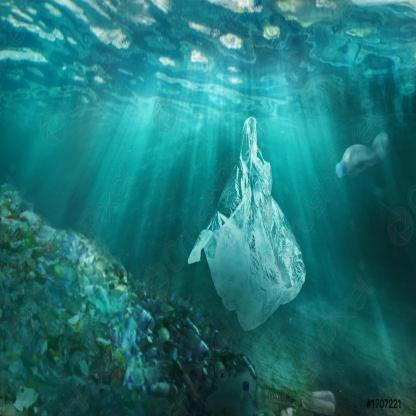pbag: (186, 113, 314, 334)
